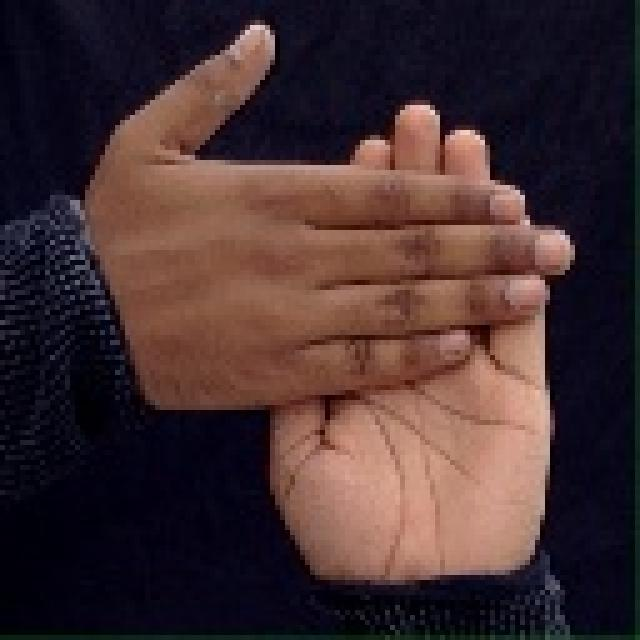Alphabet-H: (79, 19, 576, 599)
